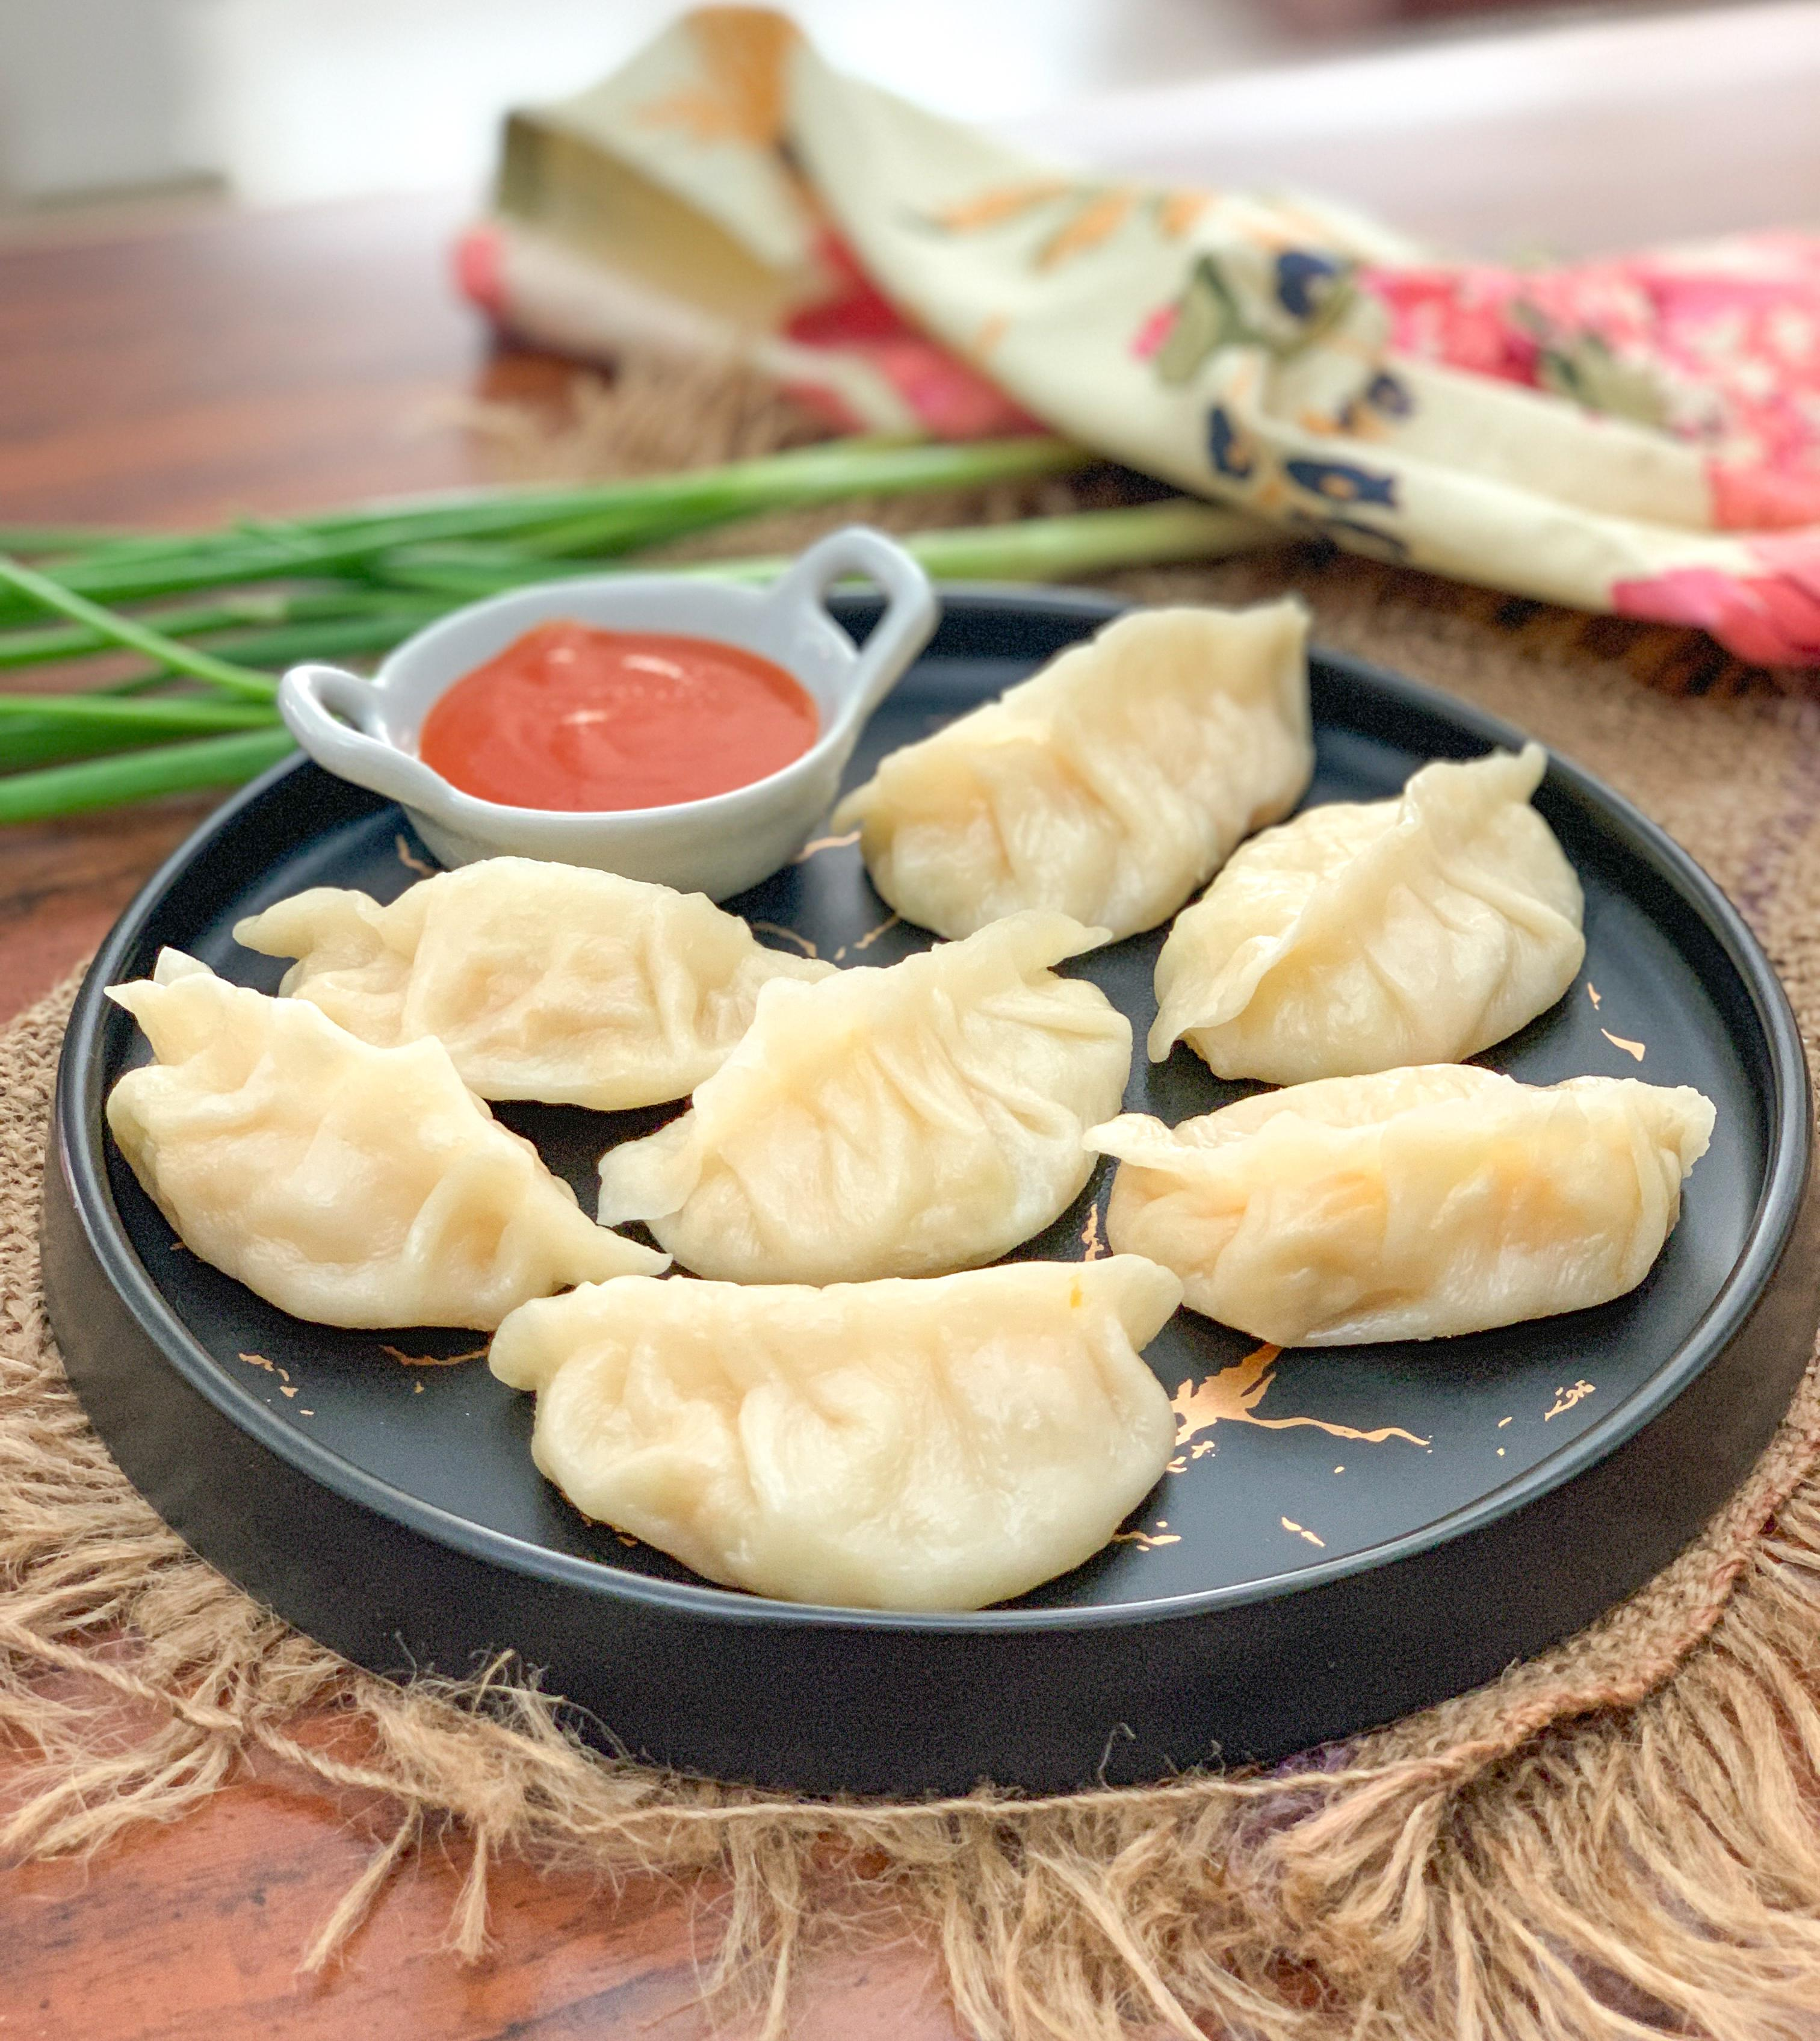momos: (491, 1256, 1180, 1611), (108, 949, 670, 1331), (598, 909, 1132, 1284), (1084, 1064, 1714, 1348), (833, 598, 1311, 937), (235, 857, 833, 1112), (1148, 746, 1582, 1084)
